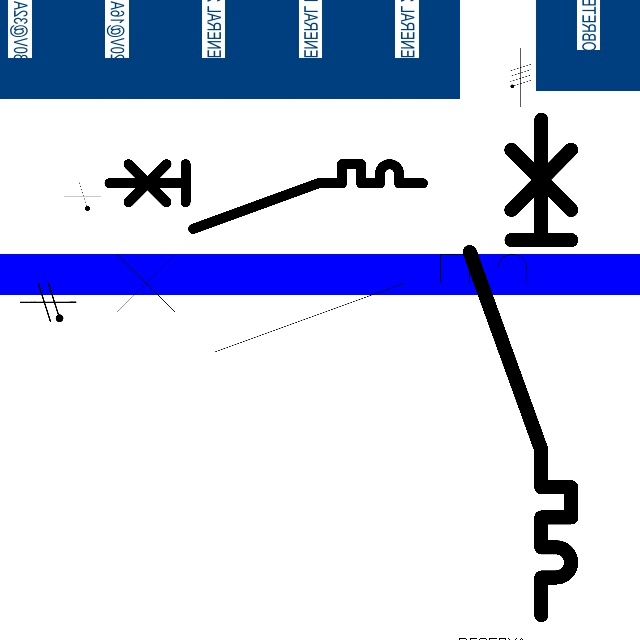interruptor_termomagnetico: (457, 106, 584, 627), (76, 242, 575, 364), (101, 156, 431, 236)
